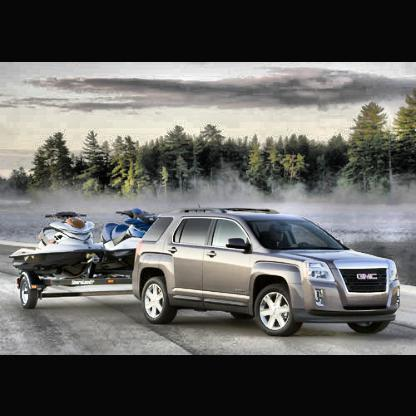GMC Terrain SUV 2012: (131, 207, 403, 337)
